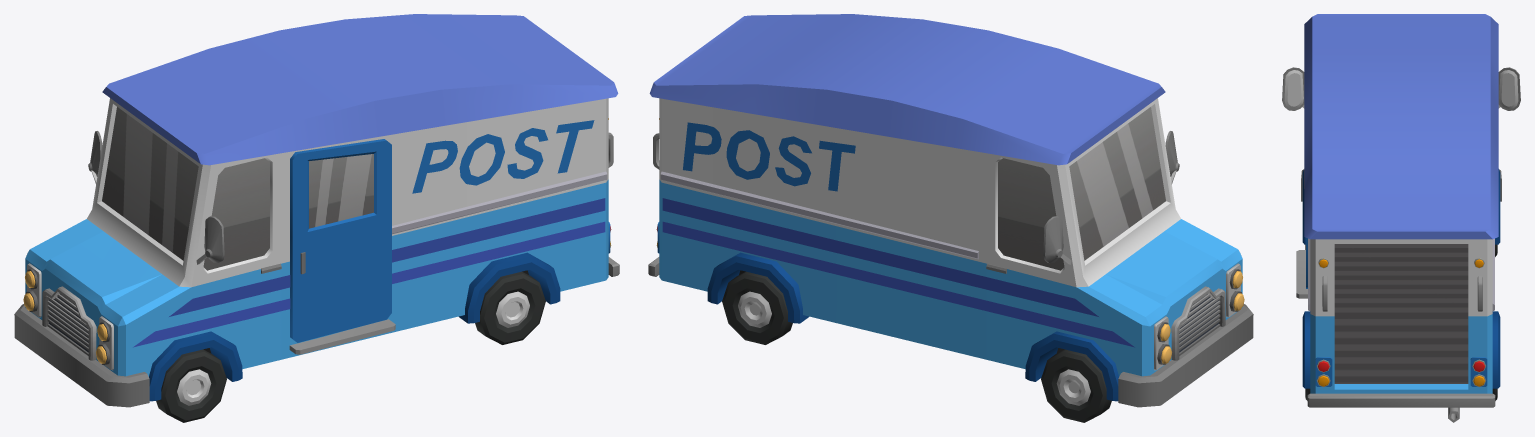
The model's file is PostCar_2_C.fbx.
The picture shows the model from 3 angles, left to right: view 1: azimuth 30°, elevation 25°; view 2: azimuth 150°, elevation 25°; view 3: azimuth 270°, elevation 25°; orthographic projection. The views are drawn at different scales.
Visible parts, largest first — view 1: PostCar_2_C, FL, RL; view 2: PostCar_2_C, FR, RR; view 3: PostCar_2_C.
Boxes of the visible parts, <box> form: PostCar_2_C: <box>14,14,619,407</box>; FL: <box>156,349,226,422</box>; RL: <box>475,271,545,344</box>; PostCar_2_C: <box>648,14,1253,407</box>; FR: <box>1041,349,1111,422</box>; RR: <box>722,271,792,344</box>; PostCar_2_C: <box>1282,14,1520,422</box>.
Bounding box in the file's own units: 4.14 × 2.11 × 1.8.
